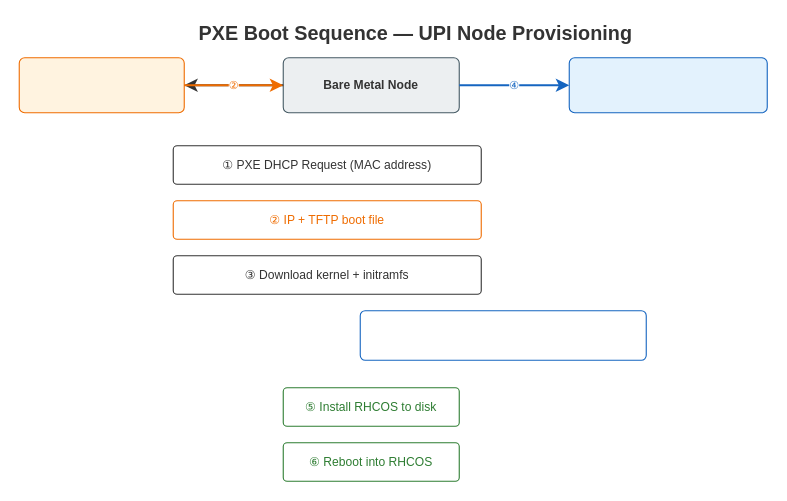
The diagram is 787 pixels wide and 501 high, and some of its shapes have lost their labels. The centre of each missing label's shape, as x and y in pixels:
"Bastion (DHCP+TFTP)" goes at (101,85).
"HTTP Ignition Server" goes at (667,85).
"④ Fetch ignition config (bootstrap/master/worker.ign)" goes at (502,335).
